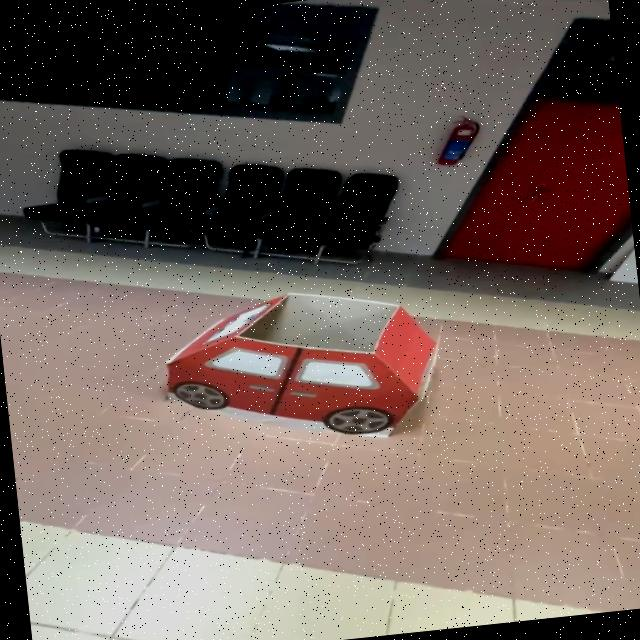red_car: (108, 261, 493, 487)
